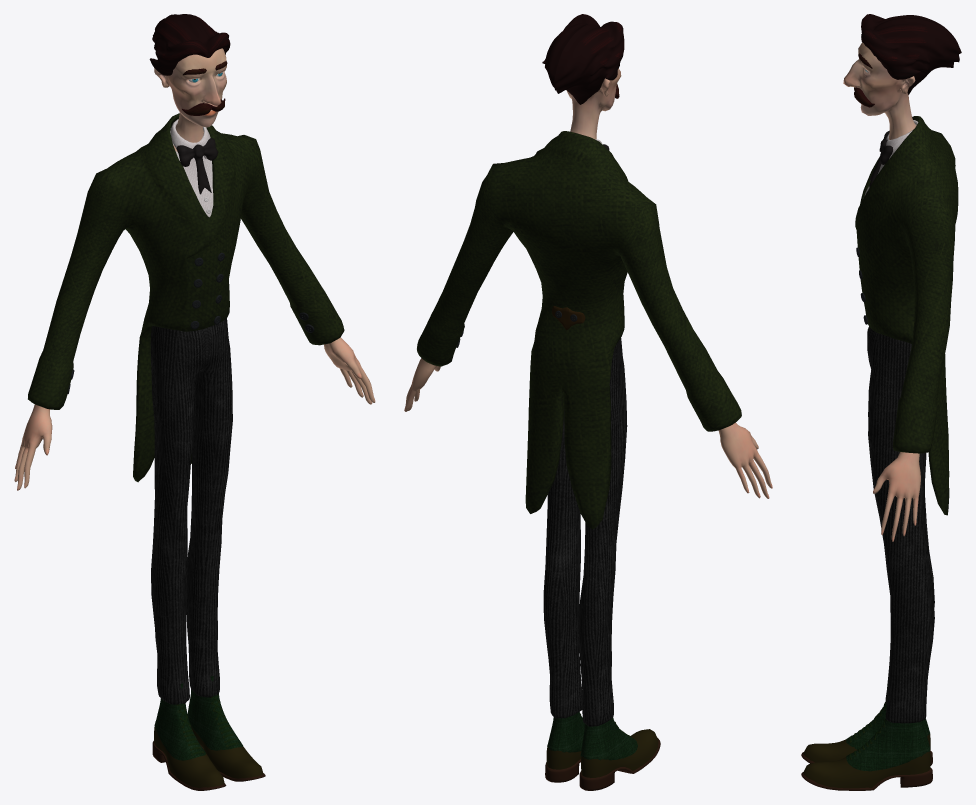
File: nikola_tesla.glb
3 views of the same model, side by side, from view 1: azimuth 30°, elevation 25°; view 2: azimuth 150°, elevation 25°; view 3: azimuth 270°, elevation 25° (orthographic). The views are drawn at different scales.
Parts seen in each view (by area): view 1: Object_20, Object_21, Object_4, Object_12, Object_19, Object_13, Object_7, Object_22, Object_17, Object_23; view 2: Object_20, Object_21, Object_13, Object_4, Object_19, Object_7, Object_12, Object_3; view 3: Object_20, Object_21, Object_13, Object_4, Object_12, Object_7, Object_19, Object_3, Object_17.
Part boxes in pixels (x1,y1,x2,y2): Object_20: (28,113,344,482); Object_21: (150,318,232,704); Object_4: (154,676,242,760); Object_12: (154,48,226,152); Object_19: (14,337,375,490); Object_13: (149,14,230,75); Object_7: (154,726,263,788); Object_22: (170,119,213,217); Object_17: (176,138,217,194); Object_23: (67,252,314,393); Object_20: (417,131,741,529); Object_21: (543,338,627,726); Object_13: (542,14,624,104); Object_4: (547,712,637,760); Object_19: (404,358,772,498); Object_7: (546,723,658,777); Object_12: (566,68,621,139); Object_3: (545,738,660,790); Object_20: (855,116,958,515); Object_21: (867,326,934,723); Object_13: (861,14,961,94); Object_4: (846,683,930,771); Object_12: (843,42,916,139); Object_7: (803,734,930,788); Object_19: (873,452,920,541); Object_3: (801,750,932,790); Object_17: (869,130,892,187).
Size of the model in its own units: 41.62 by 82.27 by 15.87.
Materials: 19 (18 with a texture image).
